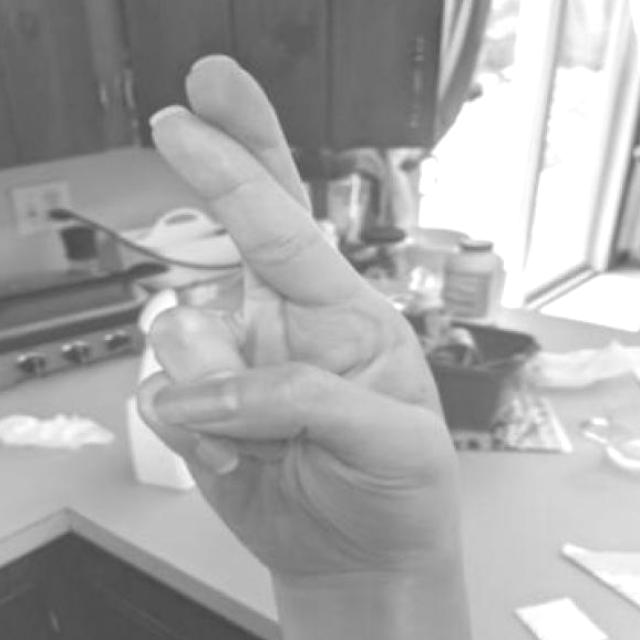R: (123, 41, 492, 634)
